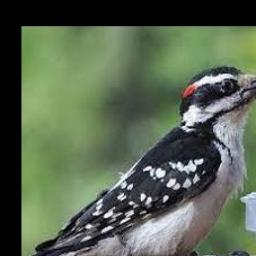Woodpecker: (21, 66, 256, 256)
